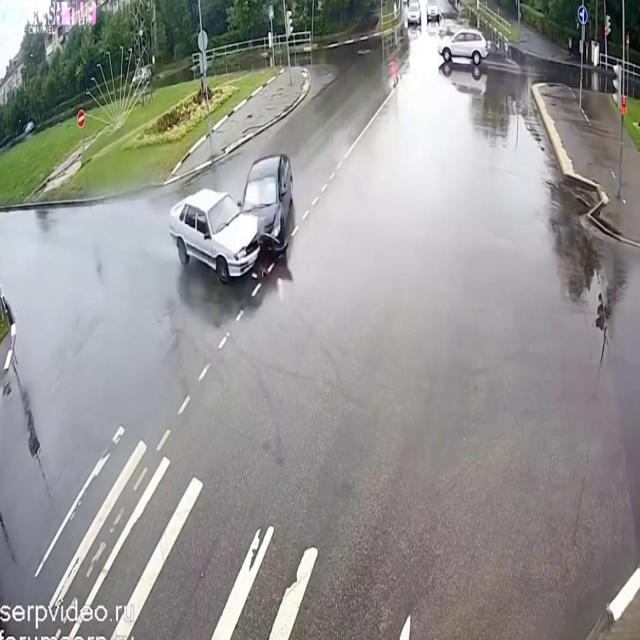accident: (165, 144, 300, 304)
